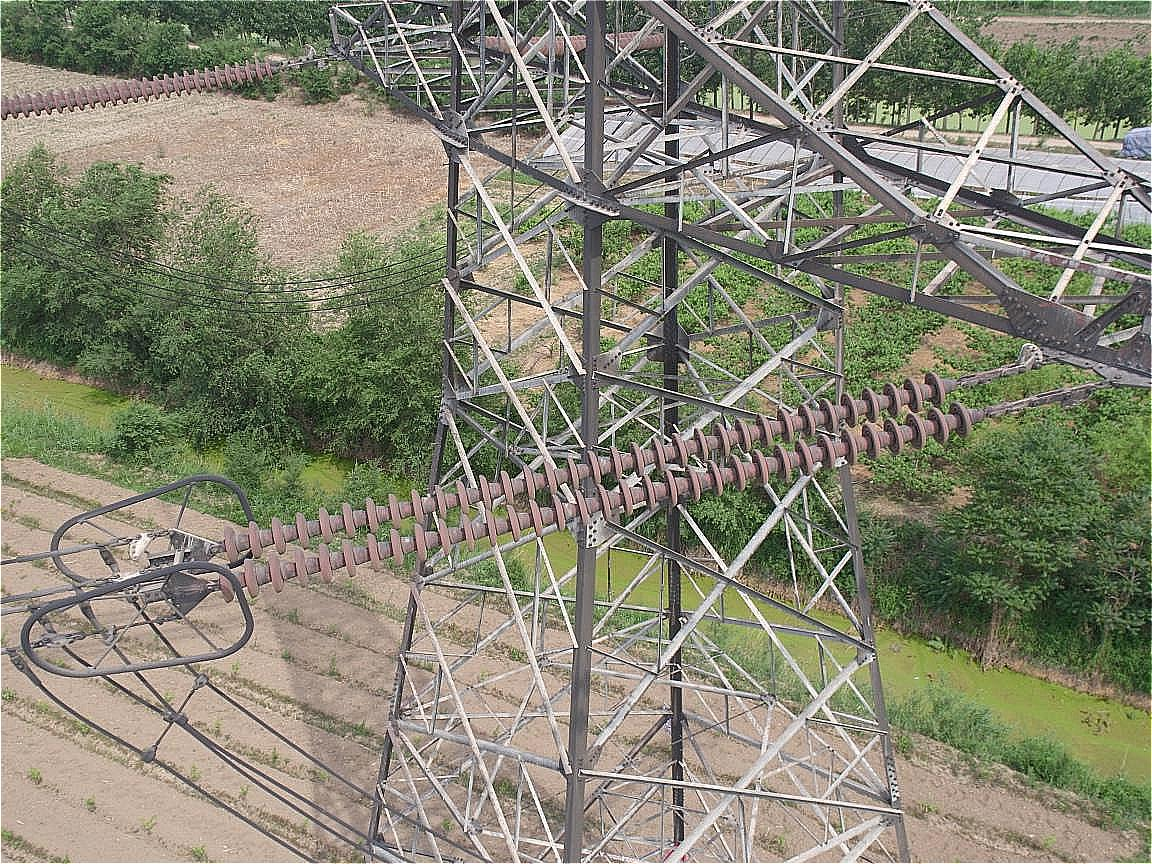insultor1: (219, 371, 972, 602), (3, 60, 273, 118)
